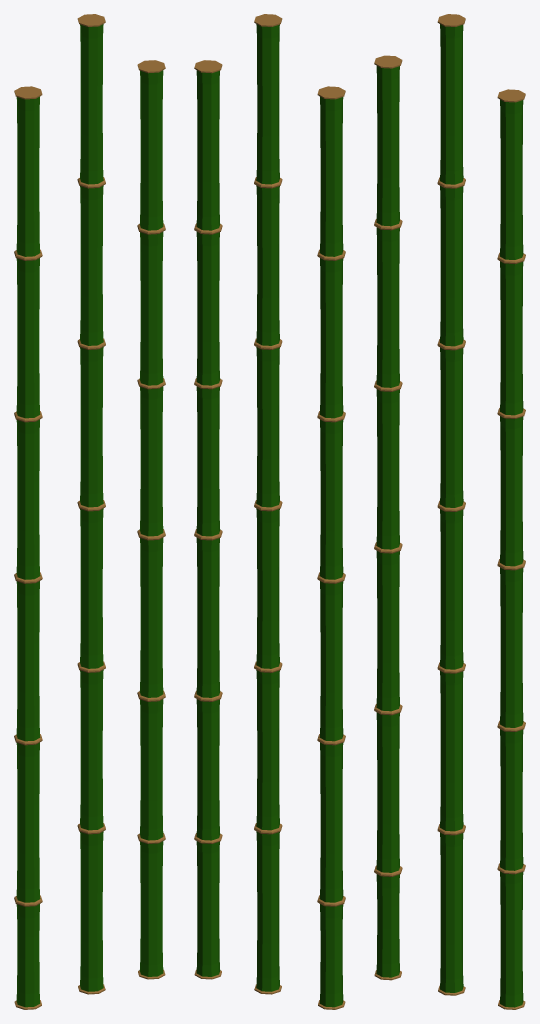
3 renders of one model, left to right at view 1: azimuth 30°, elevation 25°; view 2: azimuth 150°, elevation 25°; view 3: azimuth 330°, elevation 25°, orthographic.
Size of the model in its own units: 1.75 by 10.91 by 0.3019.
